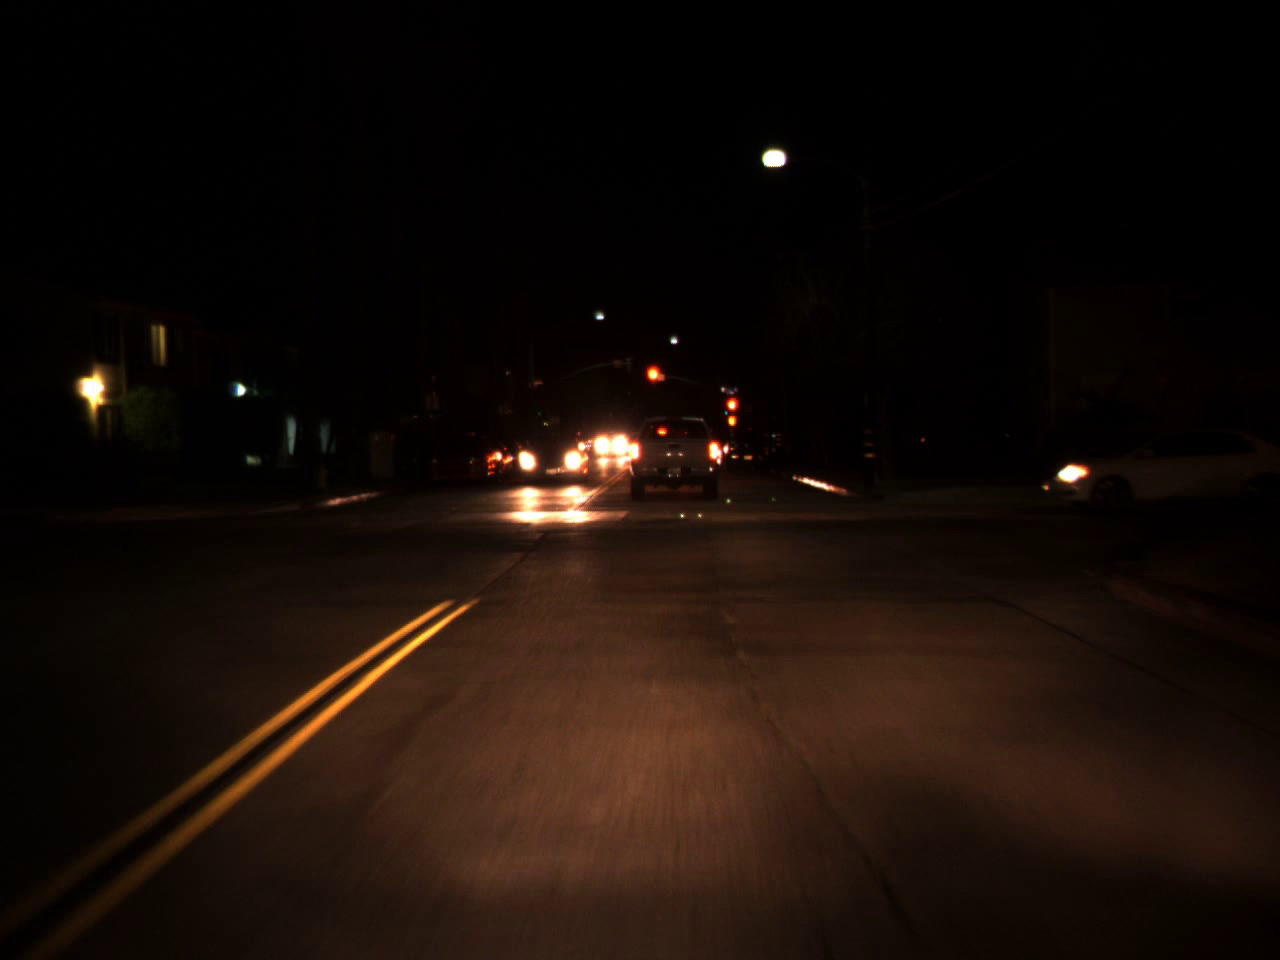stop: (724, 395, 740, 427), (645, 366, 660, 395)
